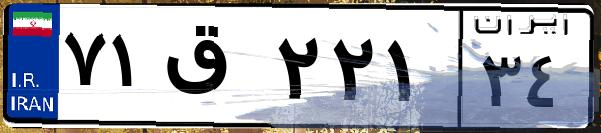1: (385, 28, 445, 110), (110, 28, 158, 98)
2: (270, 28, 330, 110), (330, 28, 385, 110)
3: (475, 38, 525, 113)
4: (525, 38, 570, 115)
7: (57, 26, 110, 100)
ق: (158, 20, 270, 120)
